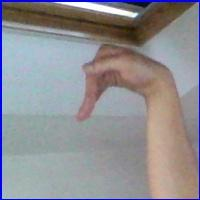del: (72, 37, 180, 130)
